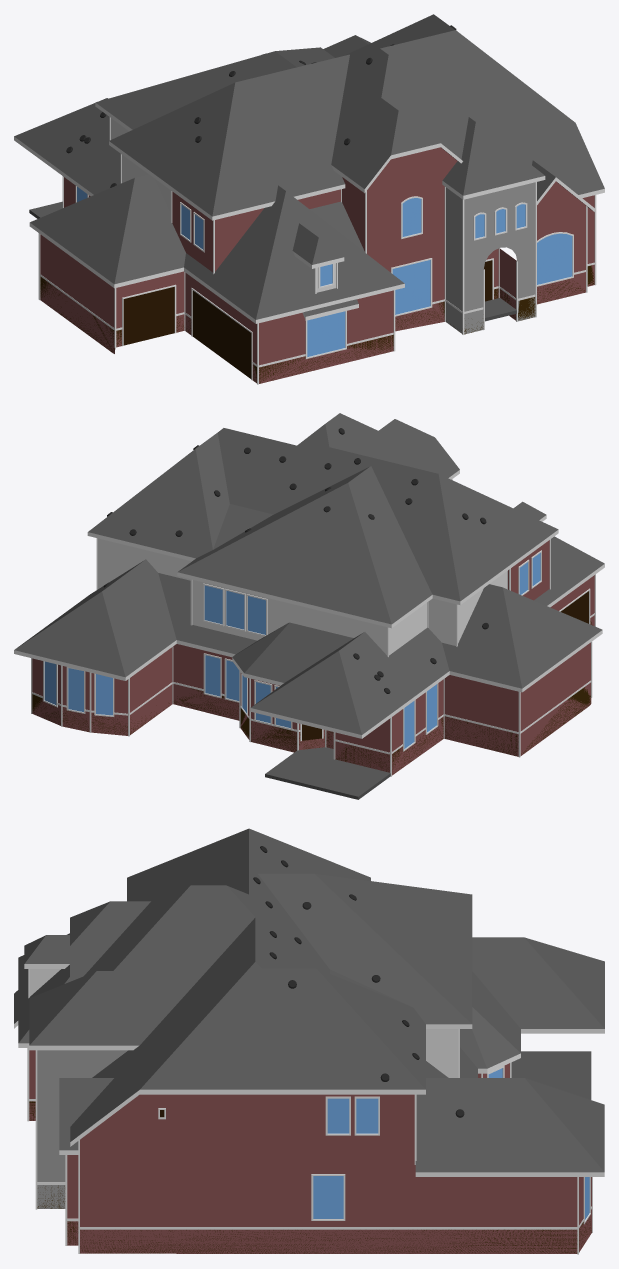
File: extra_chunks.glb
The picture shows the model from 3 angles, top to bottom: view 1: azimuth 30°, elevation 25°; view 2: azimuth 150°, elevation 25°; view 3: azimuth 270°, elevation 25°; orthographic projection. The views are drawn at different scales.
Visible parts, largest first — view 1: F30 (×2), F37, WALL14 (×2), WALL31 (×2), F12 (×2), F29, WALL34 (×2), F31, WALL28 (×2), F15, F9, F21 (+29 smaller); view 2: F20 (×2), F28, F29, F39, F15, F21, WALL27 (×2), F26, WALL28 (×2), F9, F8, WALL3 (×2) (+35 smaller); view 3: WALL7 (×2), F38 (×2), F35 (×2), F27 (×2), F20, F22, F37, F16, F28, WALL15 (×2), F30, F39 (+21 smaller).
Part boxes in pixels (x1,y1,x2,y2): F30 (×2): (212, 54, 349, 220); F37: (380, 30, 604, 194); WALL14 (×2): (367, 147, 457, 331); WALL31 (×2): (259, 290, 393, 383); F12 (×2): (256, 191, 404, 323); F29: (109, 82, 234, 216); WALL34 (×2): (464, 182, 535, 333); F31: (331, 43, 398, 188); WALL28 (×2): (40, 234, 115, 353); F15: (14, 98, 120, 194); F9: (30, 178, 134, 283); F21: (95, 51, 296, 129); F20 (×2): (177, 483, 391, 628); F28: (217, 424, 460, 601); F29: (438, 474, 558, 600); F39: (88, 449, 212, 558); F15: (339, 627, 449, 734); F21: (348, 466, 432, 623); WALL27 (×2): (444, 675, 518, 756); F26: (102, 559, 176, 676); WALL28 (×2): (520, 642, 591, 755); F9: (503, 587, 602, 688); F8: (442, 584, 521, 688); WALL3 (×2): (192, 579, 386, 654); WALL7 (×2): (80, 1094, 577, 1253); F38 (×2): (139, 962, 425, 1094); F35 (×2): (29, 885, 255, 1050); F27 (×2): (415, 1078, 604, 1176); F20: (315, 873, 472, 1023); F22: (258, 873, 471, 1024); F37: (70, 918, 255, 1141); F16: (472, 937, 604, 1028); F28: (227, 828, 370, 973); WALL15 (×2): (37, 1050, 127, 1208); F30: (127, 828, 248, 901); F39: (317, 969, 425, 1089).
Size of the model in its own units: 69.15 by 35.51 by 67.83.
